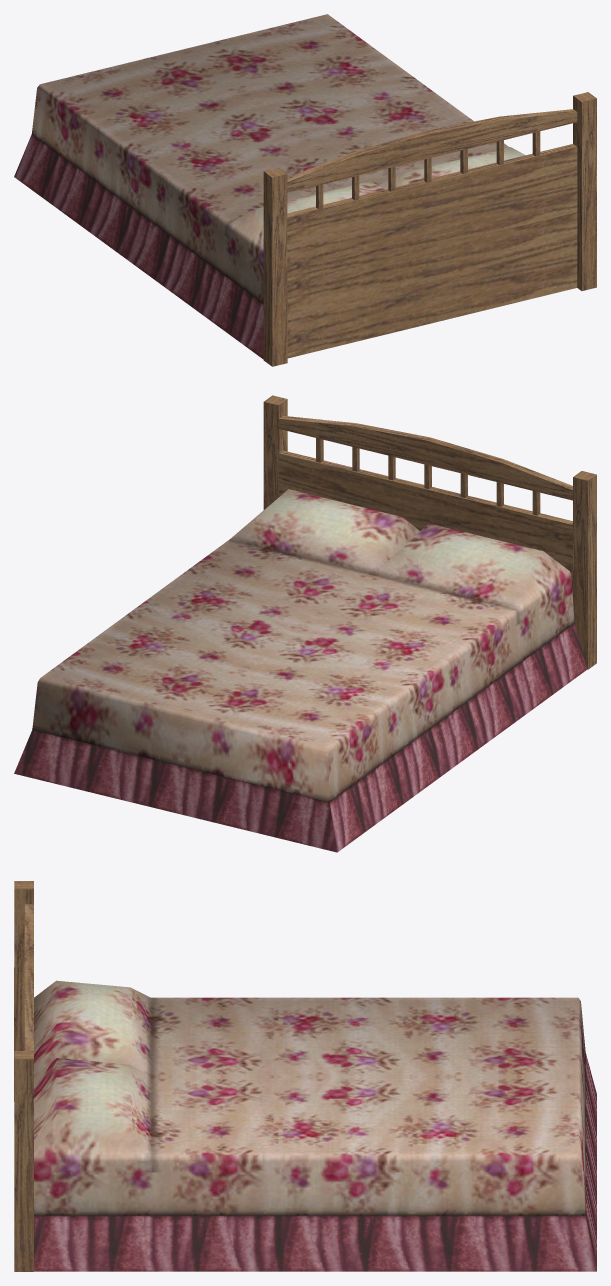
The model's file is queenbedwood.fbx.
The picture shows the model from 3 angles, top to bottom: view 1: azimuth 30°, elevation 25°; view 2: azimuth 150°, elevation 25°; view 3: azimuth 270°, elevation 25°; orthographic projection. The views are drawn at different scales.
Parts seen in each view (by area): view 1: mesh_0, mesh_1; view 2: mesh_1, mesh_0; view 3: mesh_1, mesh_0.
Part boxes in pixels (x1,y1,x2,y2): mesh_0: (14, 92, 596, 366); mesh_1: (32, 14, 525, 303); mesh_1: (32, 489, 574, 802); mesh_0: (14, 395, 596, 852); mesh_1: (34, 980, 585, 1215); mesh_0: (14, 881, 596, 1271).
Bounding box in the file's own units: 180 × 100 × 248.
Materials: 1 (1 with a texture image).
